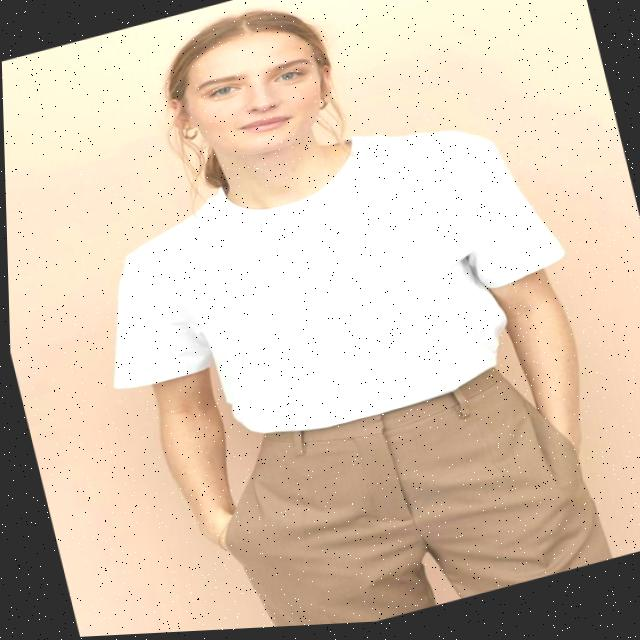Upper-Body: (110, 137, 561, 435)
